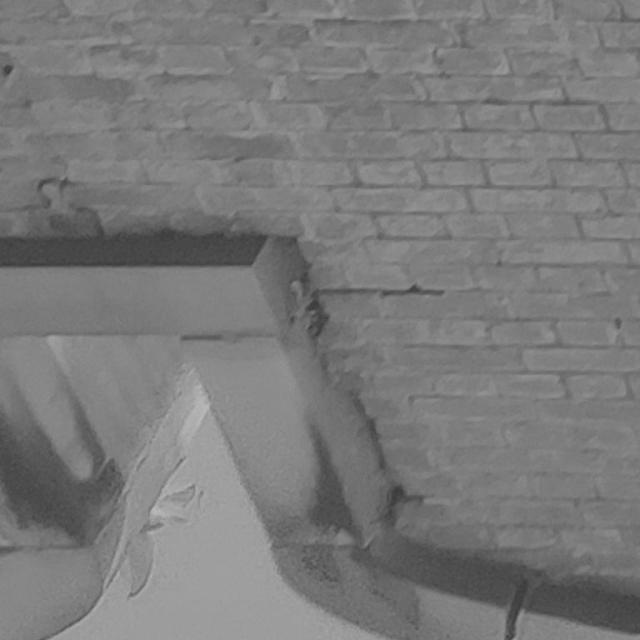crack: (289, 239, 444, 525)
